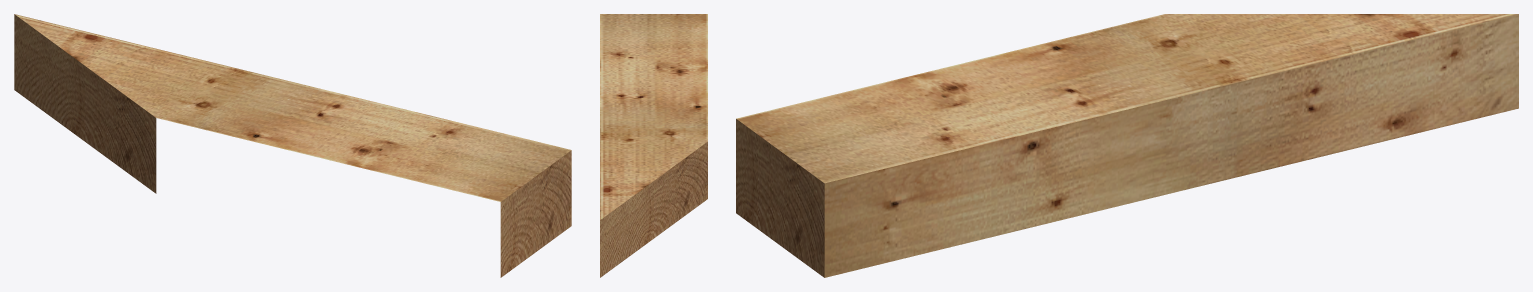
The picture shows the model from 3 angles, left to right: view 1: azimuth 30°, elevation 25°; view 2: azimuth 150°, elevation 25°; view 3: azimuth 270°, elevation 25°; orthographic projection. The views are drawn at different scales.
Parts seen in each view (by area): view 1: Joint_0_Object_0; view 2: Joint_0_Object_0; view 3: Joint_0_Object_0.
Boxes of the visible parts, left/top/right/bottom form: Joint_0_Object_0: left=14, top=14, right=571, bottom=277; Joint_0_Object_0: left=600, top=14, right=707, bottom=277; Joint_0_Object_0: left=736, top=14, right=1518, bottom=277.
Bounding box in the file's own units: 1652 × 430 × 3226.
1 material, 1 textured.
